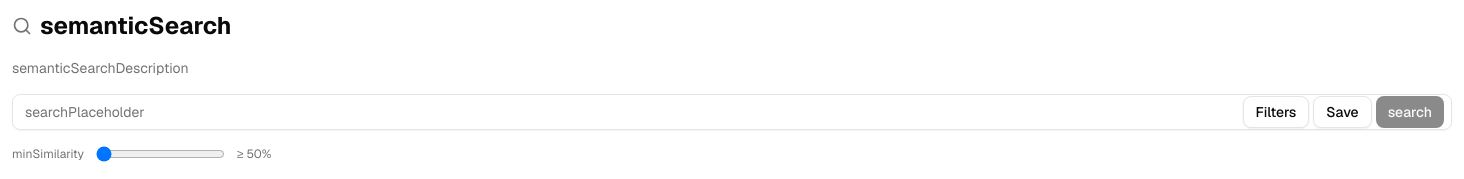
SearchBar › Search Input › shows clear button when input has text
Type "test" into the field with placeholder "searchPlaceholder".
click(732, 112); type("test")  # box [12, 94, 1452, 130]
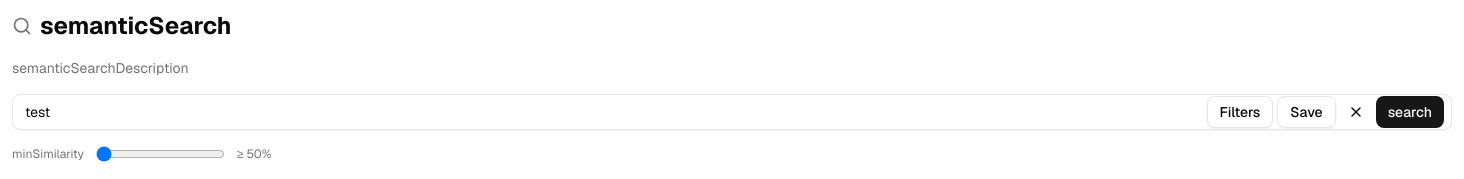
Check: the button named "clear" is shown, box [1340, 96, 1372, 128]
